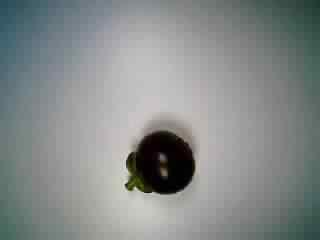mangosteen: (119, 121, 200, 201)
